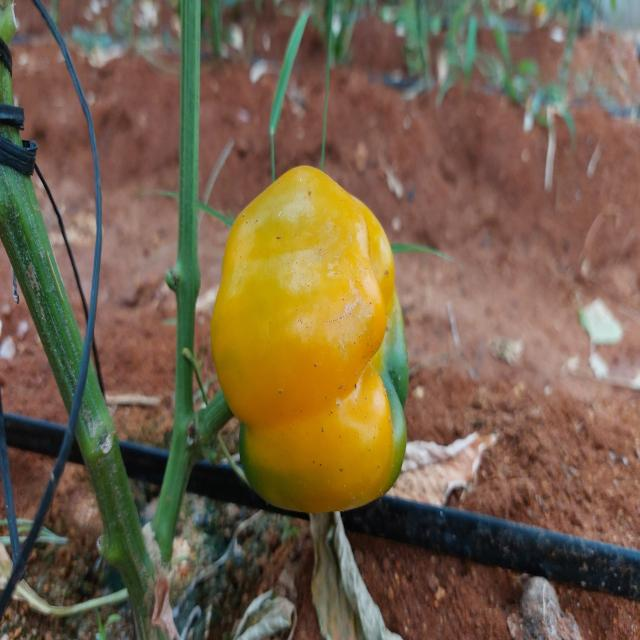Yellow-Ready-to-Harvest: (203, 159, 411, 535)
